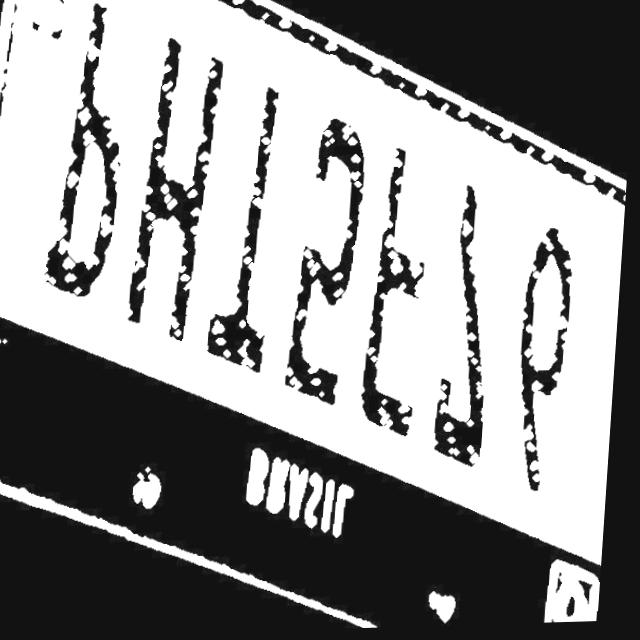5: (286, 119, 377, 413)
6: (501, 214, 591, 511)
7: (428, 170, 512, 478)
f: (359, 145, 443, 443)
h: (127, 41, 238, 341)
p: (47, 0, 142, 296)
t: (212, 82, 299, 381)
